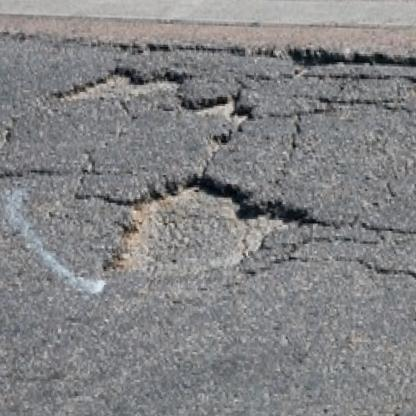pothole: (102, 177, 309, 292), (56, 63, 182, 102), (190, 93, 255, 127)
